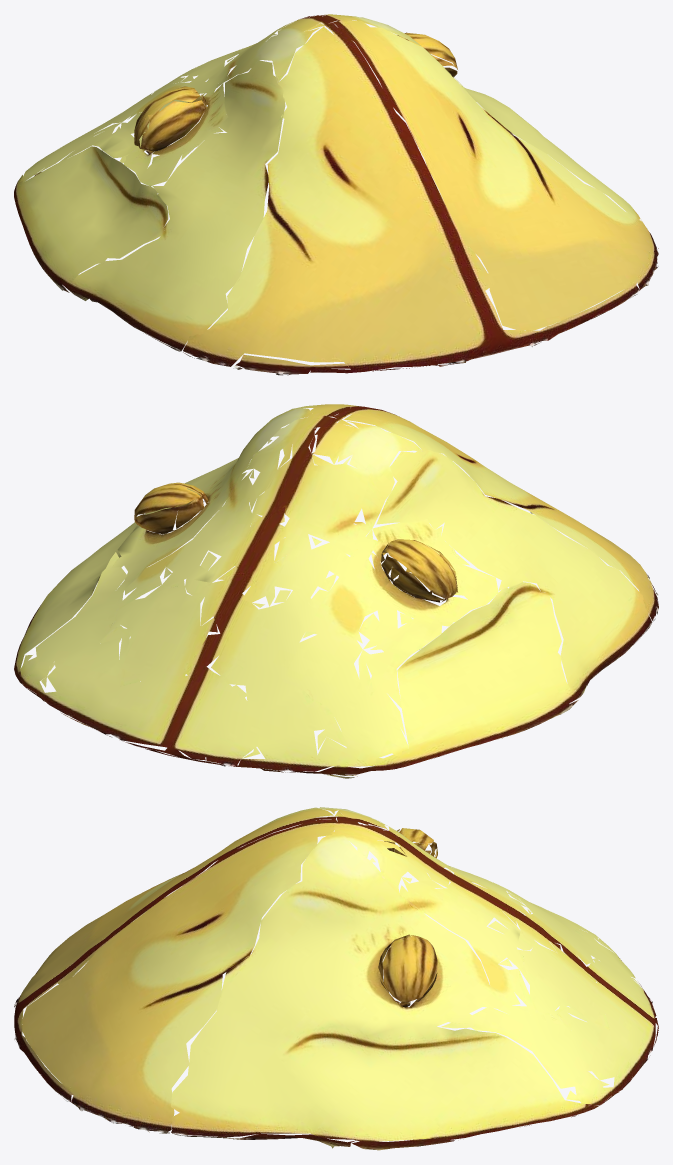
Rendered from kum_tepesi.glb.
3 views of the same model, one above another, from view 1: azimuth 30°, elevation 25°; view 2: azimuth 150°, elevation 25°; view 3: azimuth 270°, elevation 25° (orthographic). The views are drawn at different scales.
Visible parts, largest first — view 1: geometry_0; view 2: geometry_0; view 3: geometry_0.
Part boxes in pixels (x1,y1,x2,y2): geometry_0: (14,14,658,375); geometry_0: (14,404,658,778); geometry_0: (14,807,658,1150).
Bounding box in the file's own units: 0.8808 × 0.3654 × 0.9976.
1 material, 1 textured.
